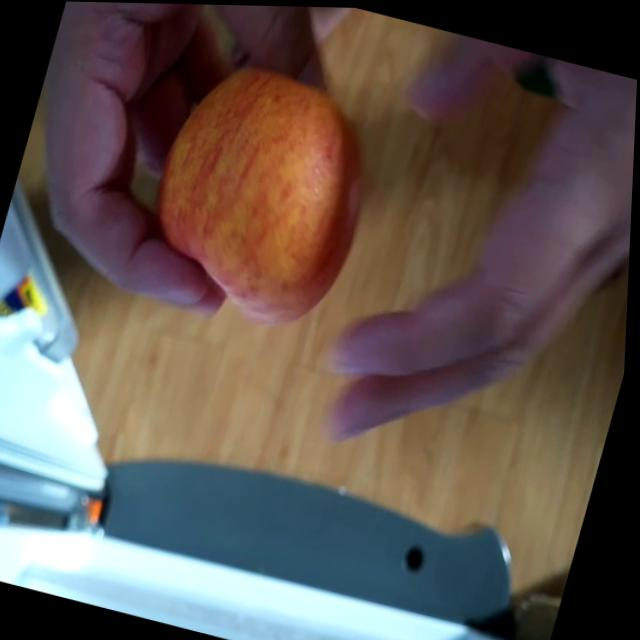apple: (138, 53, 395, 329)
